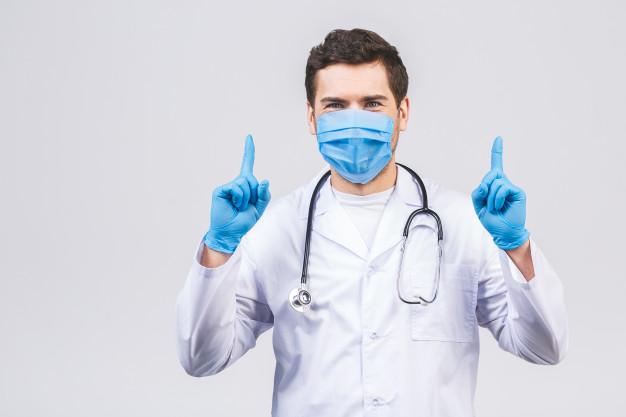Gloves: (196, 128, 273, 257), (467, 135, 538, 255)
with_mask: (315, 93, 400, 187)
